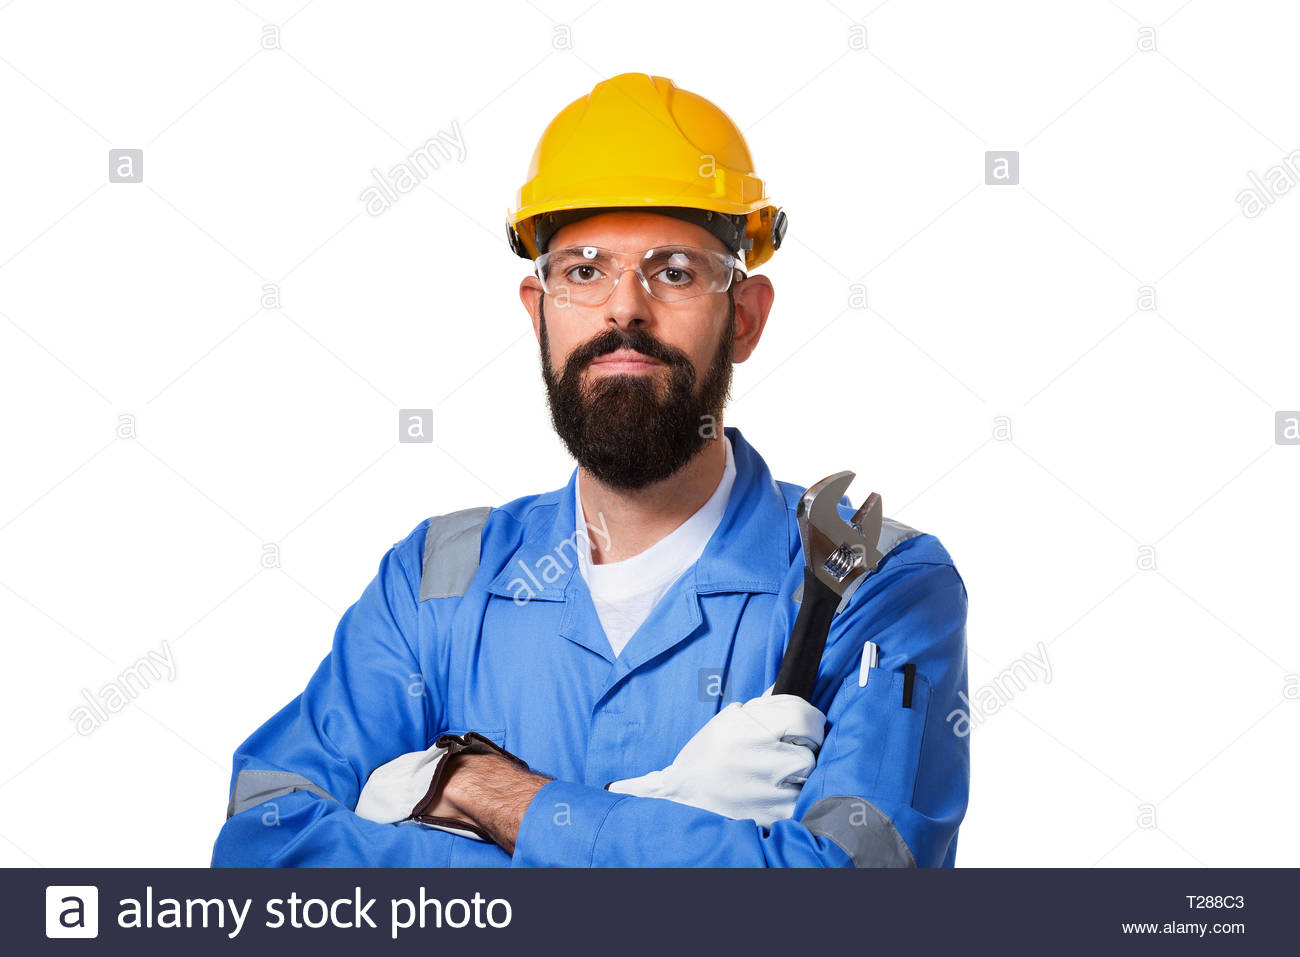casco: (503, 70, 790, 275)
